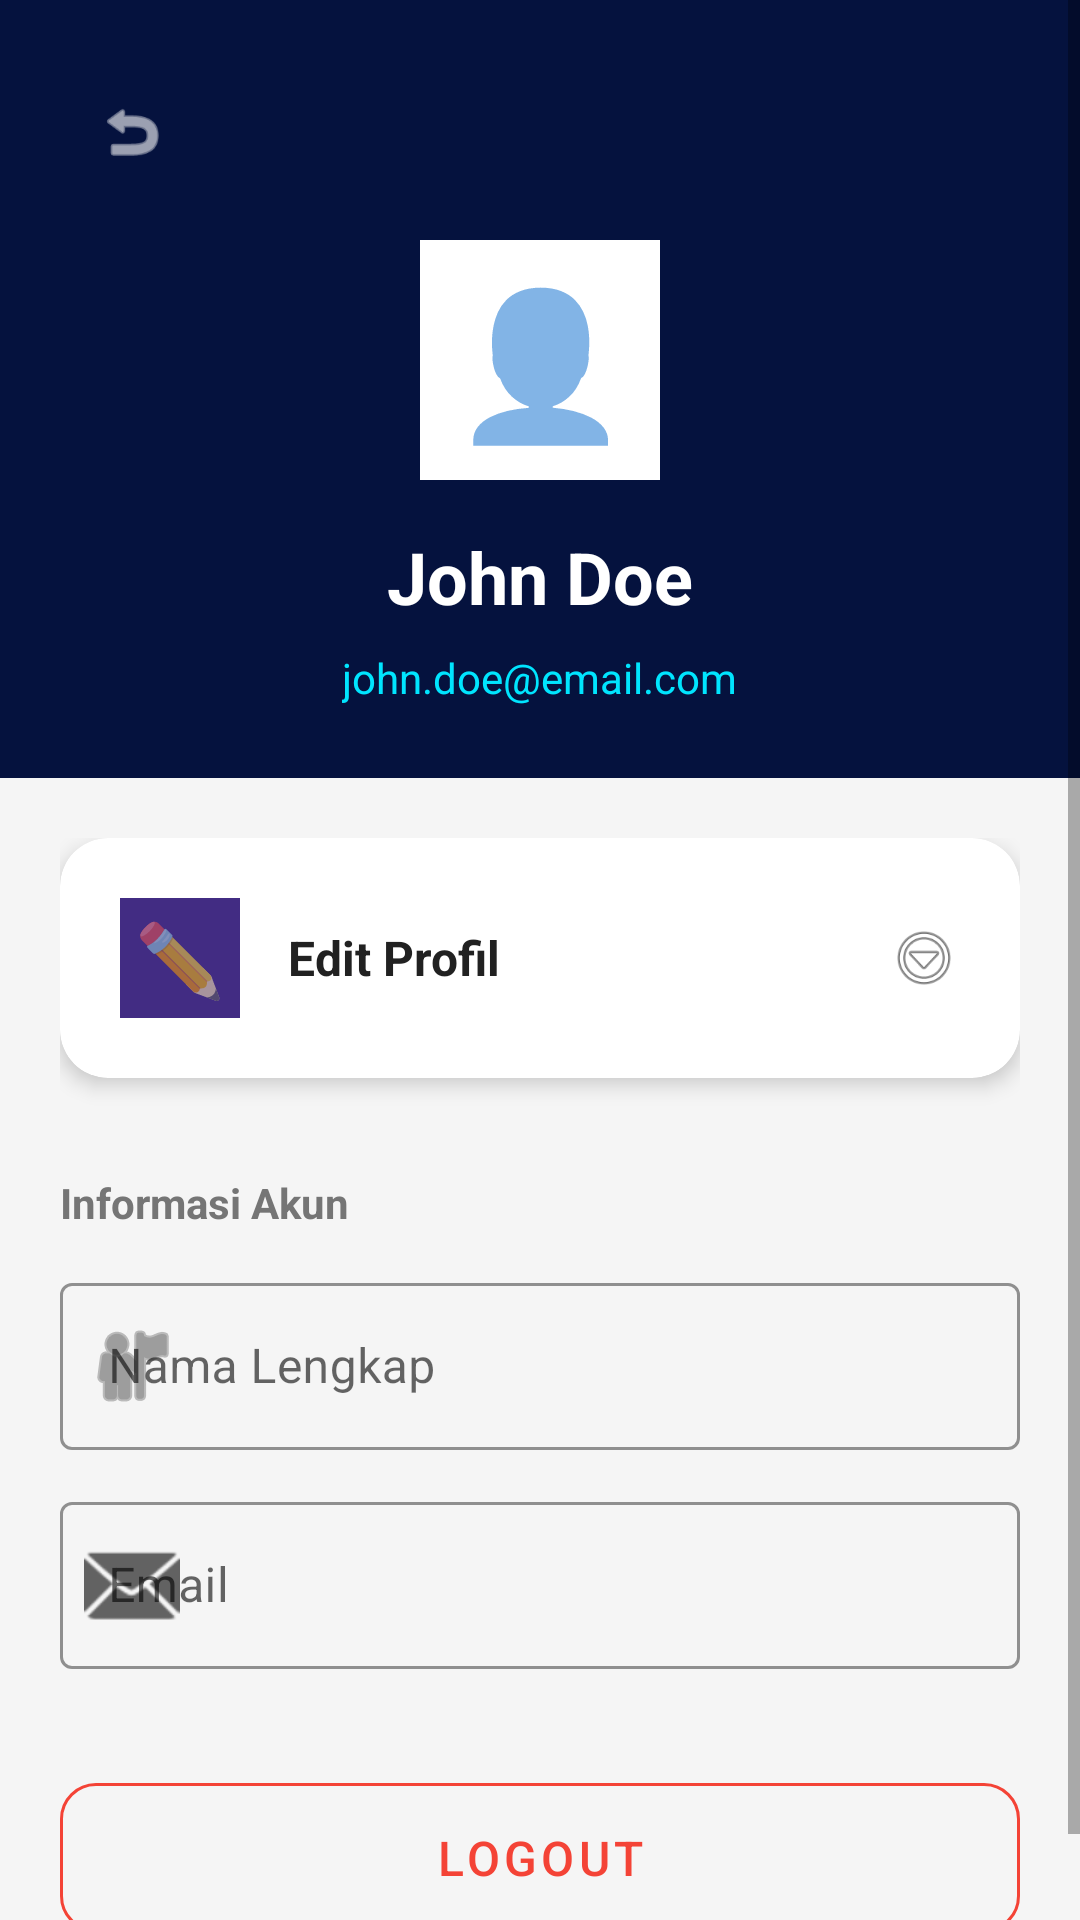

Locate icon controls on the screen. Image size 1080 × 1920, boxes as [x1,y1,x2,y2].
Arrow: [897,931,951,985]
Back: [107,109,159,156]
